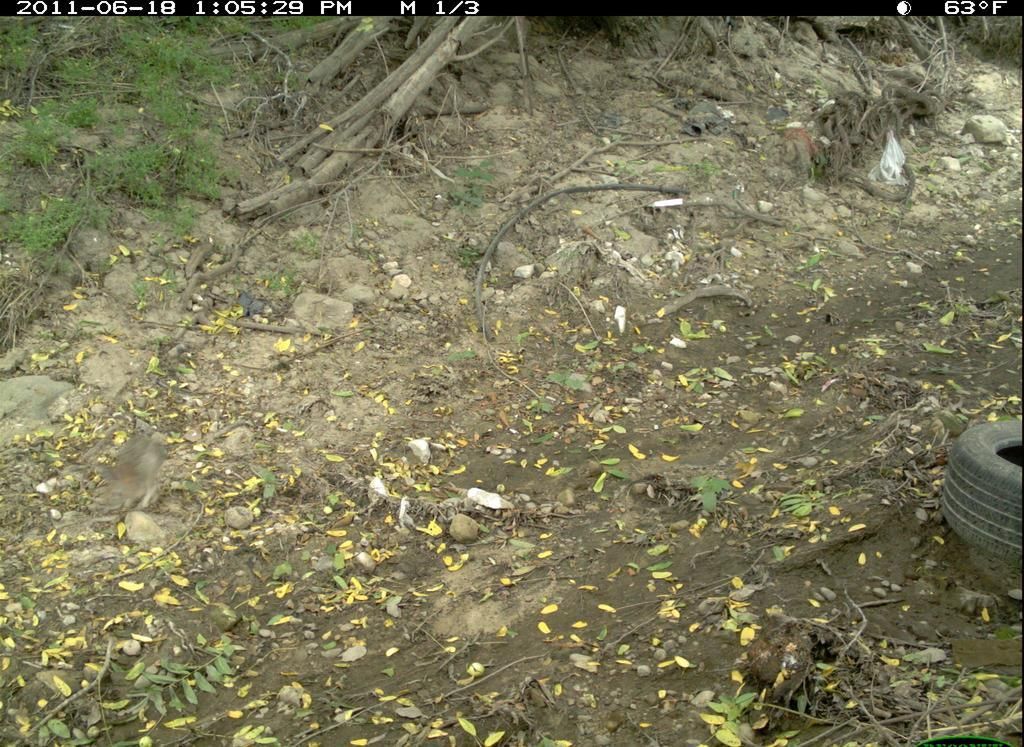rabbit: (76, 415, 217, 546)
